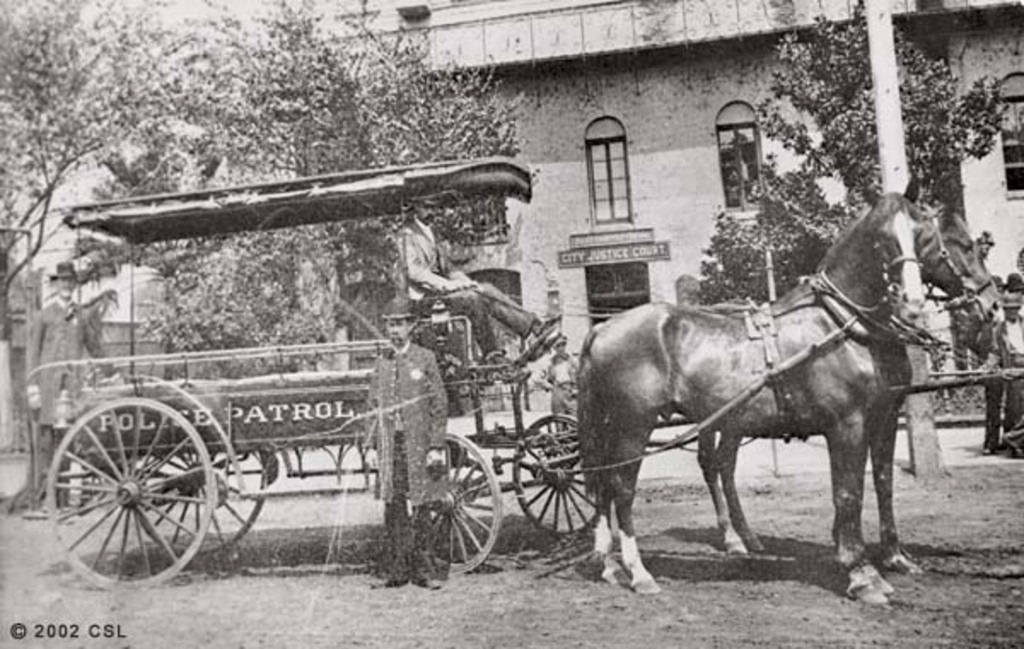Person: (23, 259, 120, 493), (969, 272, 1024, 454), (995, 294, 1024, 449)
